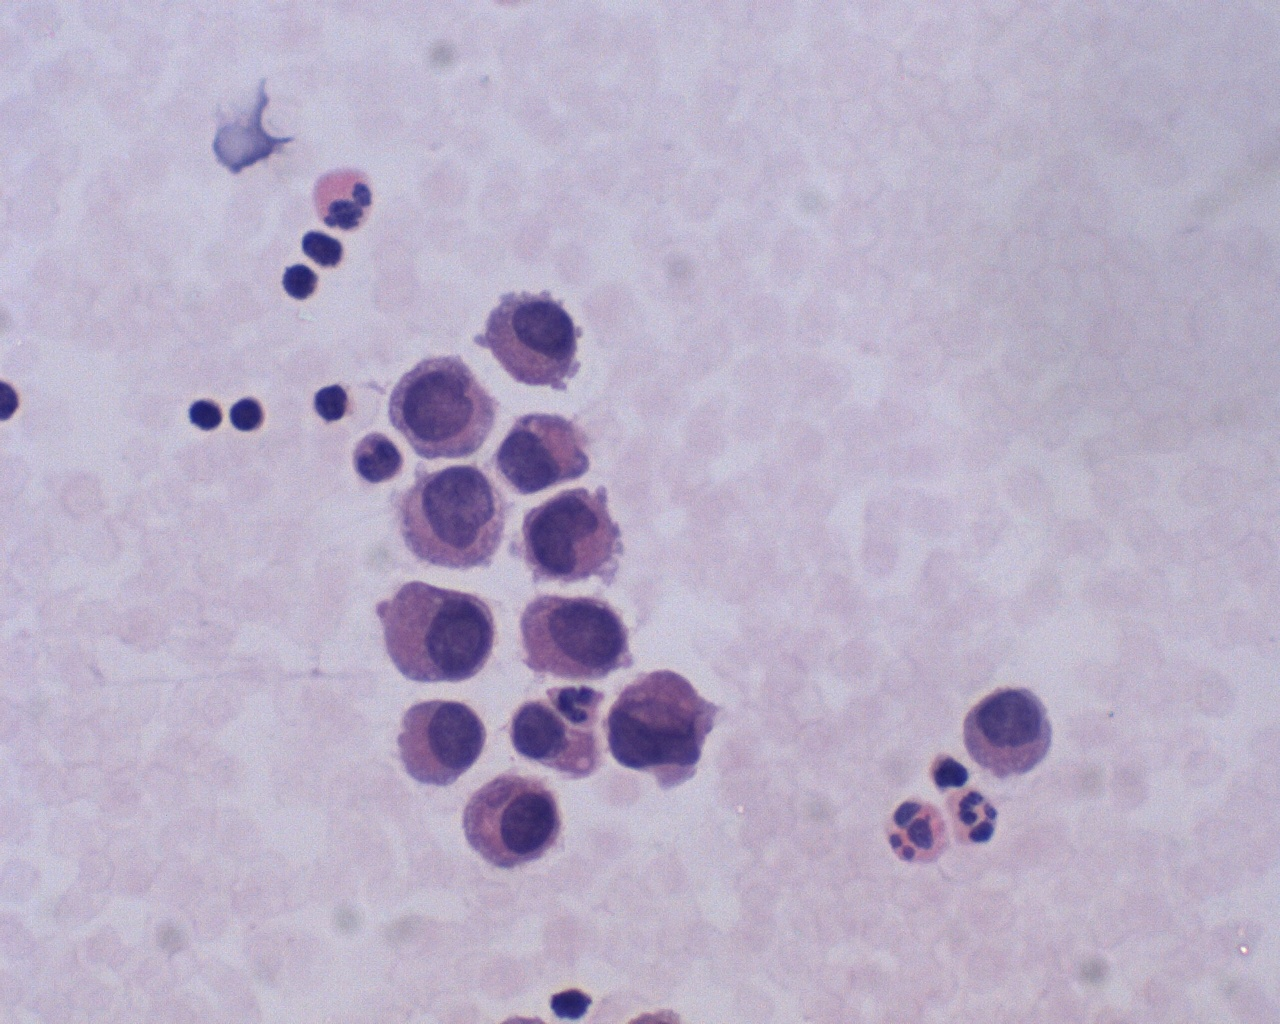ab: (605, 661, 739, 794), (371, 572, 516, 688), (511, 576, 650, 689), (393, 460, 521, 581), (513, 486, 655, 595), (379, 345, 498, 462), (388, 691, 501, 787), (959, 679, 1061, 786), (493, 410, 600, 498)
lymph: (280, 259, 327, 304), (186, 394, 226, 435)
meso: (457, 768, 571, 876)
